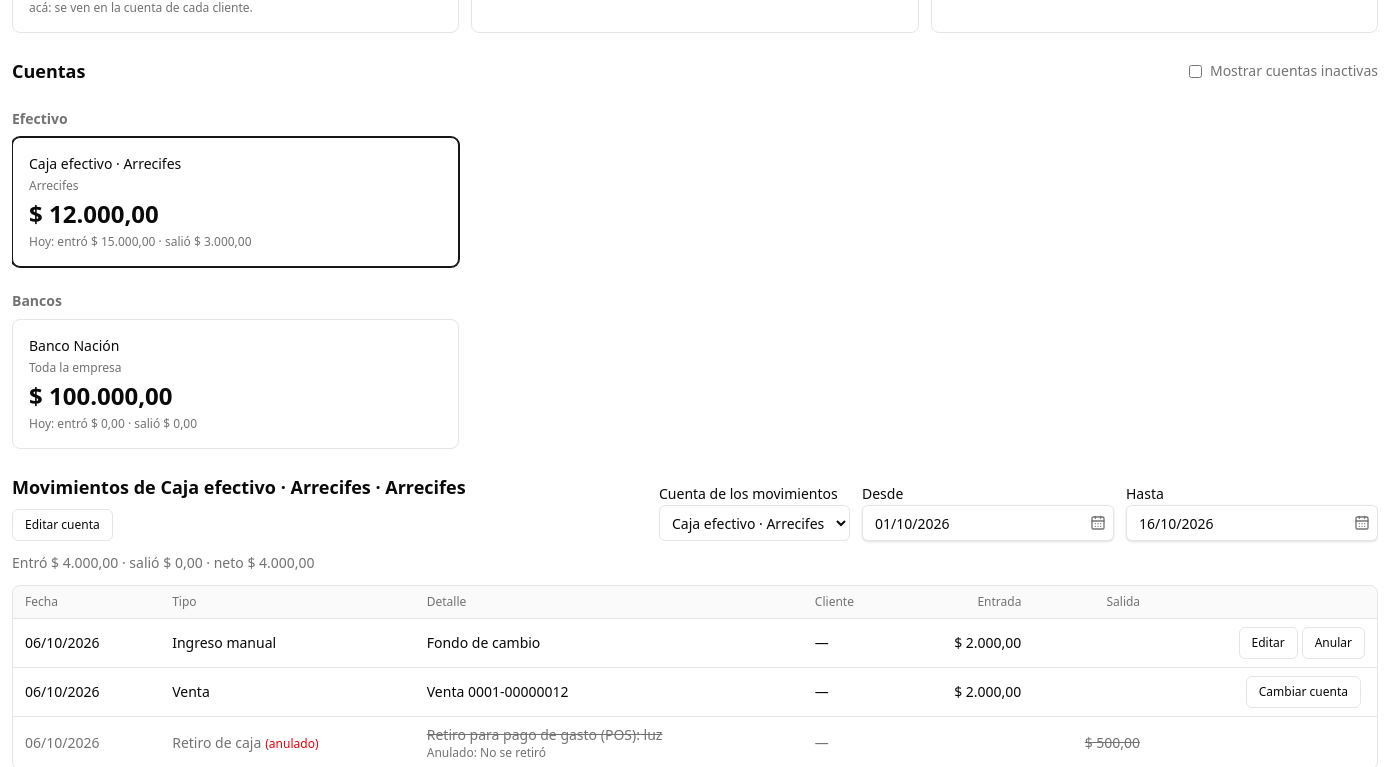
Scenario: TreasuryScreen › lists every account movements together, each with its account, read-only
(page scrolled)
expect the dropdown labelled "Cuenta de los movimientos" shows "Caja efectivo · Arrecifes": met, box x1=659 y1=505 x2=850 y2=541
Click the button "Banco Nación".
click(74, 346)  # box x1=12 y1=319 x2=459 y2=449
(page scrolled)
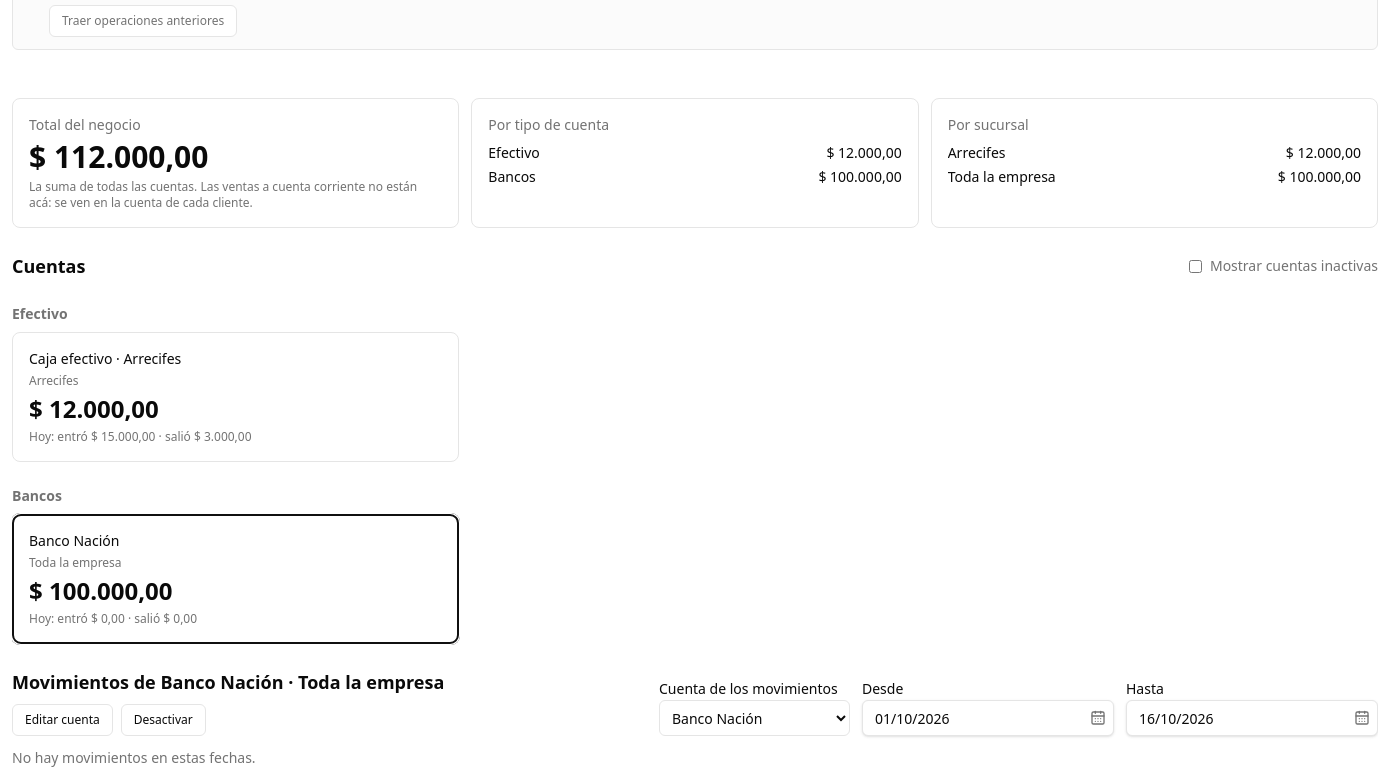
expect the dropdown labelled "Cuenta de los movimientos" shows "Banco Nación": met
Select "Todas las cuentas" in the dropdown labelled "Cuenta de los movimientos" at [754, 718], box x1=659 y1=700 x2=850 y2=736
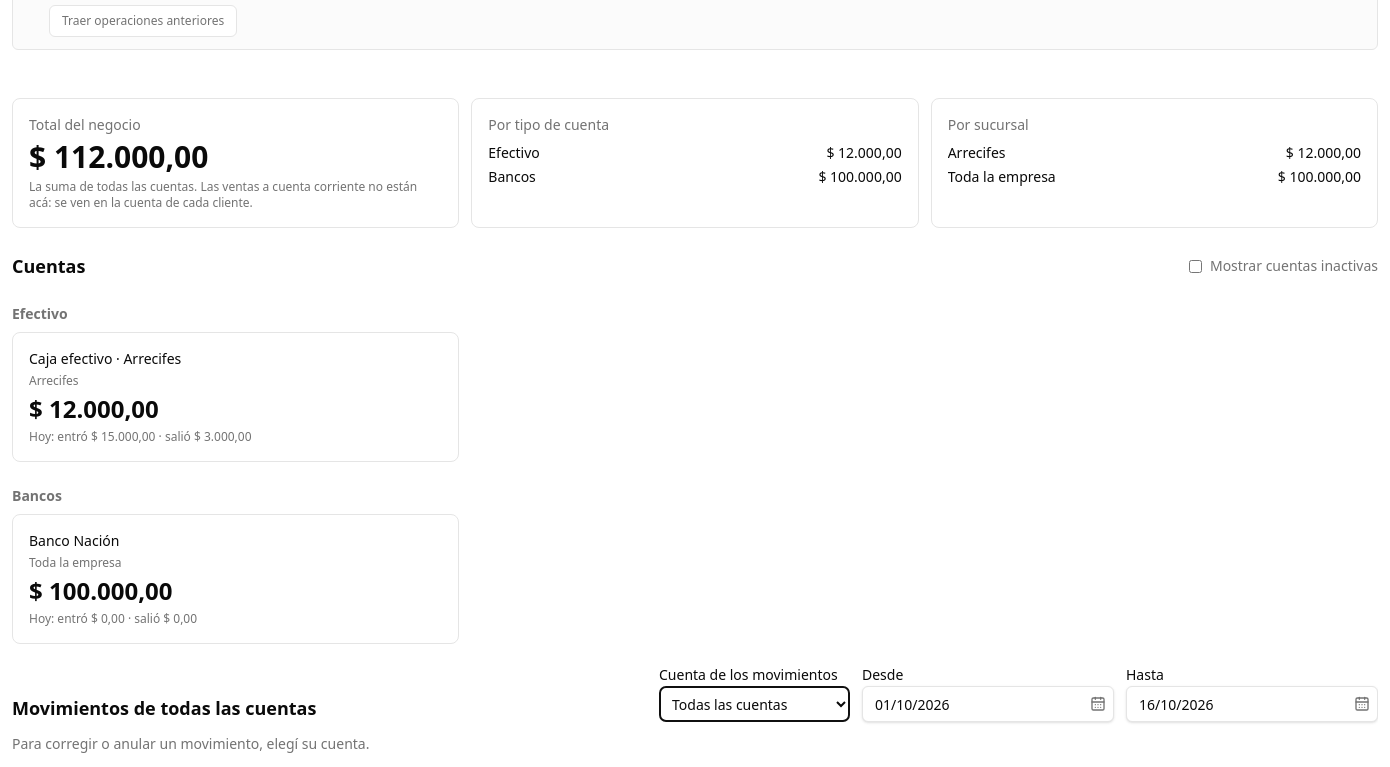
expect the heading "Movimientos de todas las cuentas" is shown: met, box x1=12 y1=694 x2=316 y2=722
expect the text "Para corregir o anular un movimiento, elegí su cuenta." is shown: met, box x1=12 y1=734 x2=370 y2=753
expect the button "Editar cuenta" is gone: met
